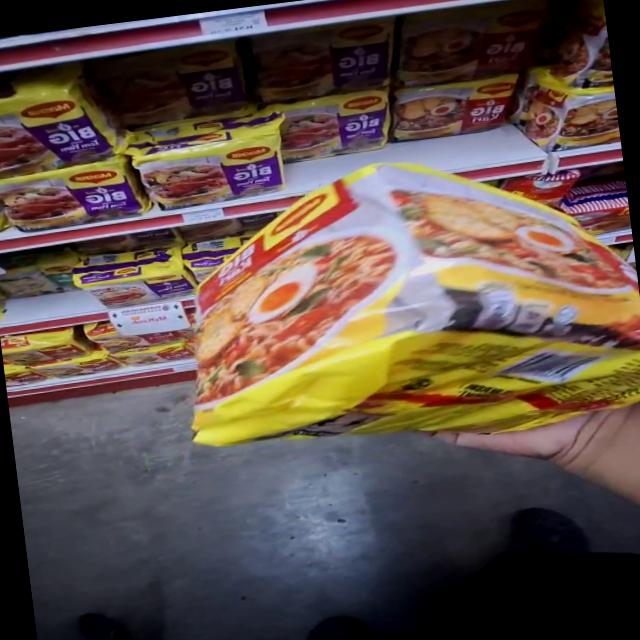Maggi: (146, 148, 640, 457), (134, 117, 296, 210), (386, 75, 531, 149), (0, 90, 116, 177), (0, 162, 128, 235), (286, 88, 394, 166)
